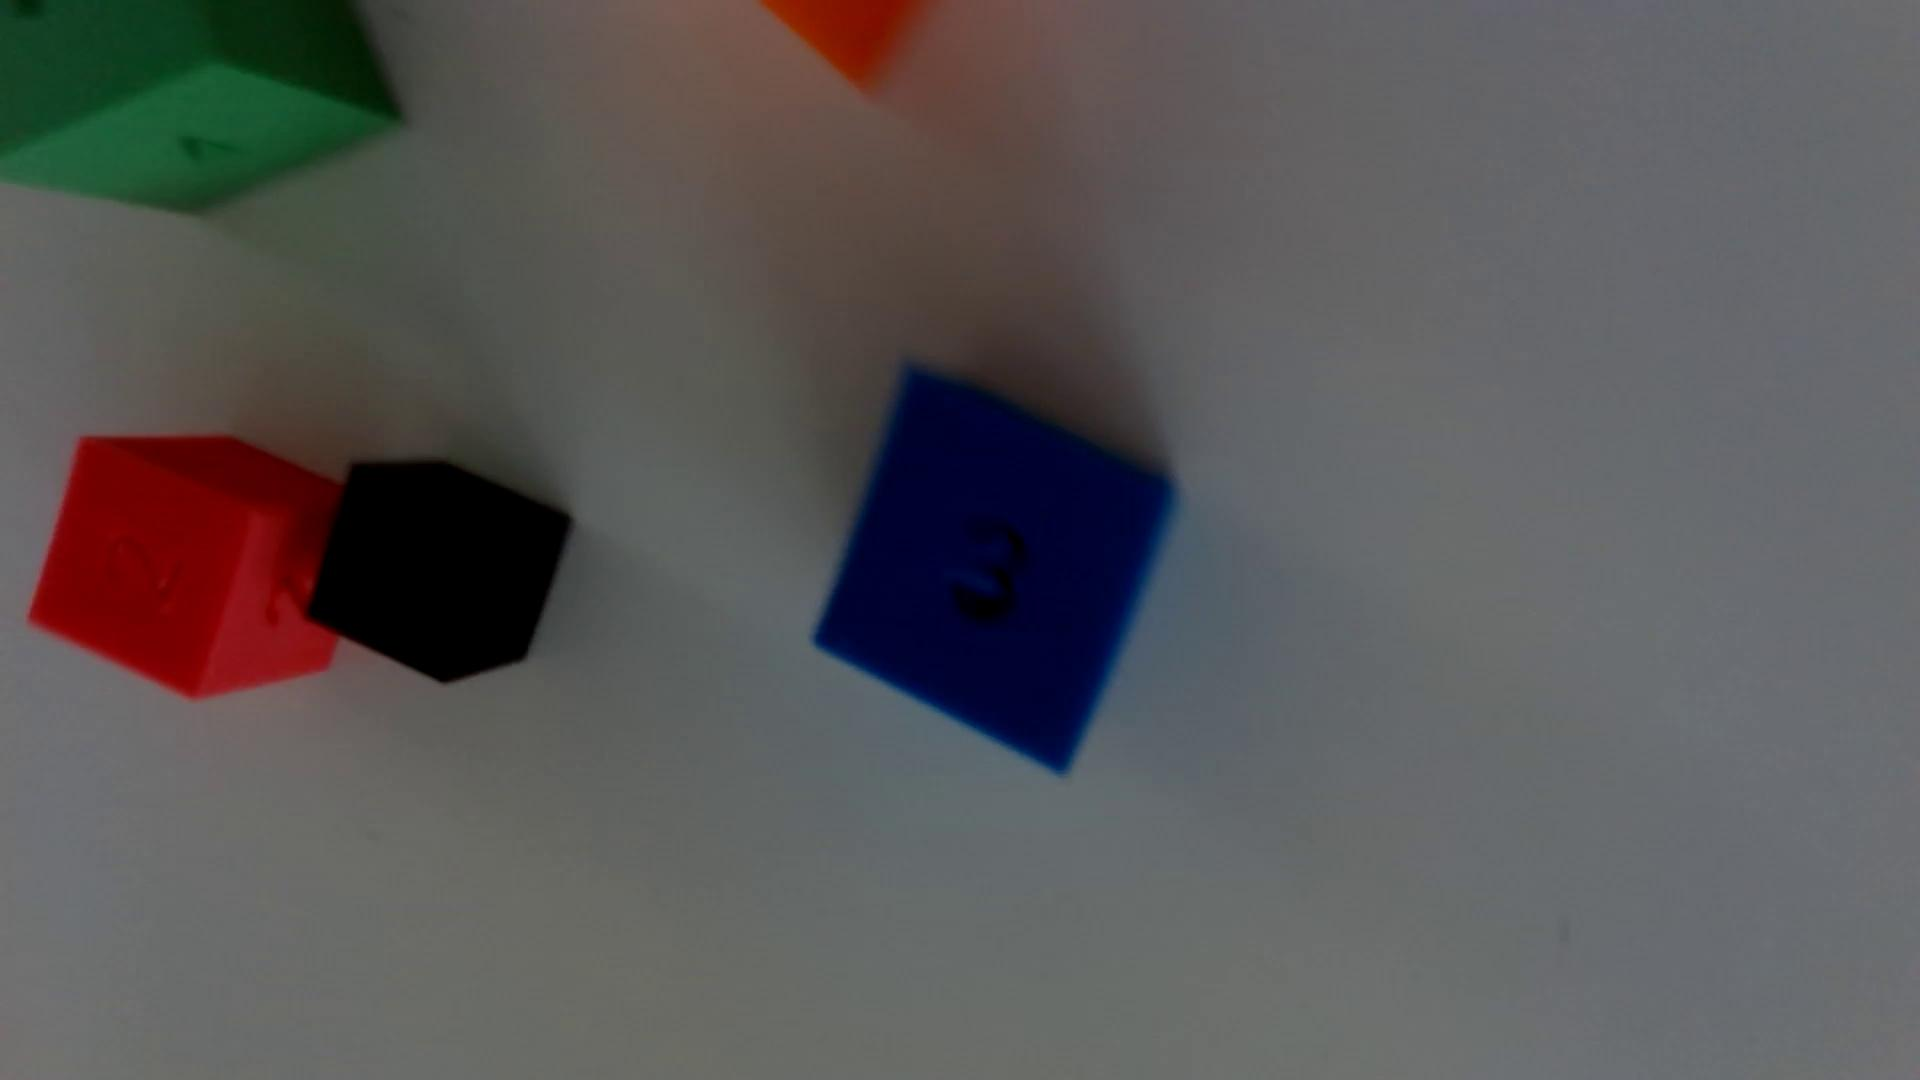black: (309, 459, 571, 683)
blue: (815, 371, 1172, 770)
green: (0, 0, 401, 212)
orange: (762, 0, 927, 88)
red: (29, 434, 342, 698)
